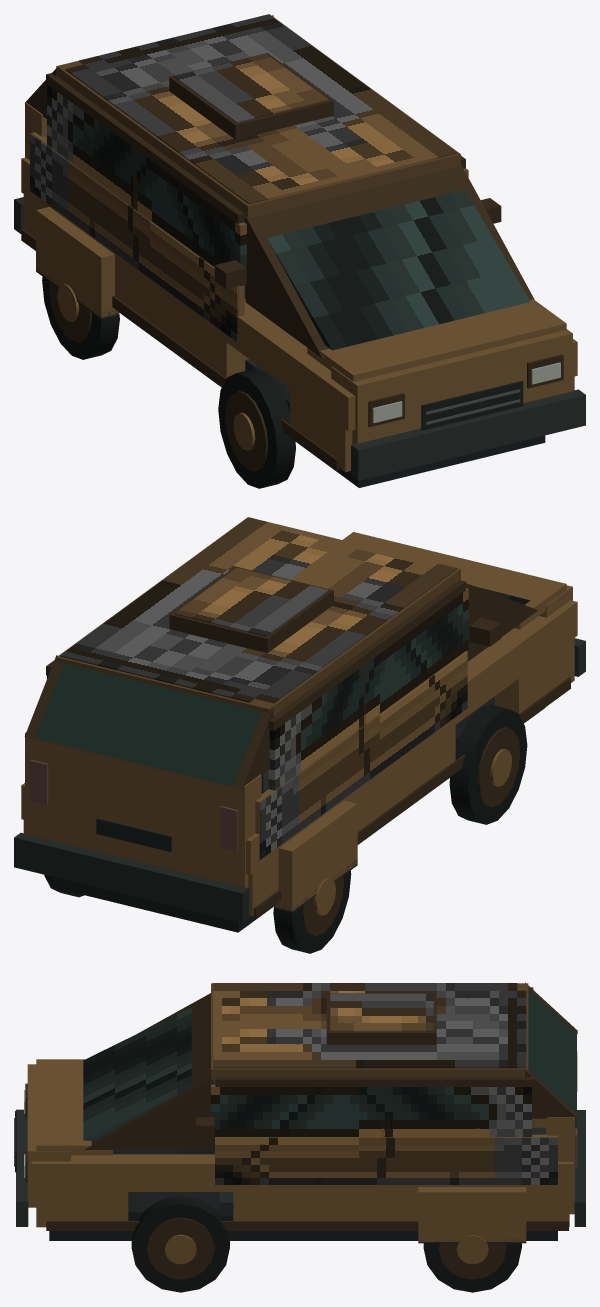
The model's file is CMU3DRMCPropVehicleMonoSupronTaxi.glb.
3 renders of one model, top to bottom at view 1: azimuth 30°, elevation 25°; view 2: azimuth 150°, elevation 25°; view 3: azimuth 270°, elevation 25°, orthographic. The views are drawn at different scales.
Parts seen in each view (by area): view 1: source roof panel, continuous sloped windshield, painted side door -1 0, side glazing -1 0, sloping windshield surround, nose lower panel, front bumper, hood top, upper wheel arch rail -1, roof base, roof pod original top, rear wheel cover (+17 smaller); view 2: source roof panel, rear tailgate, raked rear glazing, painted side door -1 0, side glazing -1 0, rear black bumper, upper wheel arch rail -1, roof pod original top, rear wheel cover, tire 1 -1, lower skirt -1 1, hood top (+18 smaller); view 3: source roof panel, painted side door 1 0, side glazing 1 0, continuous sloped windshield, lower skirt 1 1, sloping windshield surround, upper wheel arch rail 1, rear wheel cover, hood top, chassis dark underside, tire 1 1, roof pod original top (+20 smaller).
Boxes of the visible parts, x1,y1,x2,y2 form: source roof panel: (65, 14, 457, 204); continuous sloped windshield: (267, 190, 530, 350); painted side door -1 0: (30, 133, 237, 341); side glazing -1 0: (47, 84, 246, 285); sloping windshield surround: (245, 164, 534, 358); nose lower panel: (331, 329, 572, 444); front bumper: (351, 389, 585, 480); hood top: (307, 299, 566, 381); upper wheel arch rail -1: (21, 157, 355, 431); roof base: (56, 14, 460, 218); roof pod original top: (174, 54, 328, 122); rear wheel cover: (36, 207, 119, 317); source roof panel: (60, 517, 457, 703); rear tailgate: (25, 732, 261, 887); raked rear glazing: (35, 663, 261, 785); painted side door -1 0: (259, 651, 467, 859); side glazing -1 0: (268, 588, 468, 790); rear black bumper: (14, 832, 249, 922); upper wheel arch rail -1: (246, 600, 577, 874); roof pod original top: (174, 567, 328, 636); rear wheel cover: (274, 800, 357, 911); tire 1 -1: (449, 704, 527, 824); lower skirt -1 1: (343, 718, 455, 831); hood top: (343, 532, 566, 629); source roof panel: (213, 983, 526, 1068); painted side door 1 0: (215, 1137, 557, 1184); side glazing 1 0: (211, 1084, 531, 1136); continuous sloped windshield: (83, 1007, 191, 1140); lower skirt 1 1: (233, 1185, 419, 1220); sloping windshield surround: (85, 993, 212, 1149); upper wheel arch rail 1: (31, 1154, 573, 1191); rear wheel cover: (418, 1187, 526, 1241); hood top: (36, 1059, 112, 1155); chassis dark underside: (49, 1150, 557, 1240); tire 1 1: (131, 1196, 229, 1292); roof pod original top: (330, 993, 433, 1031).
Size of the model in its own units: 0.9117 by 0.8778 by 1.98.
23 materials, 5 textured.
